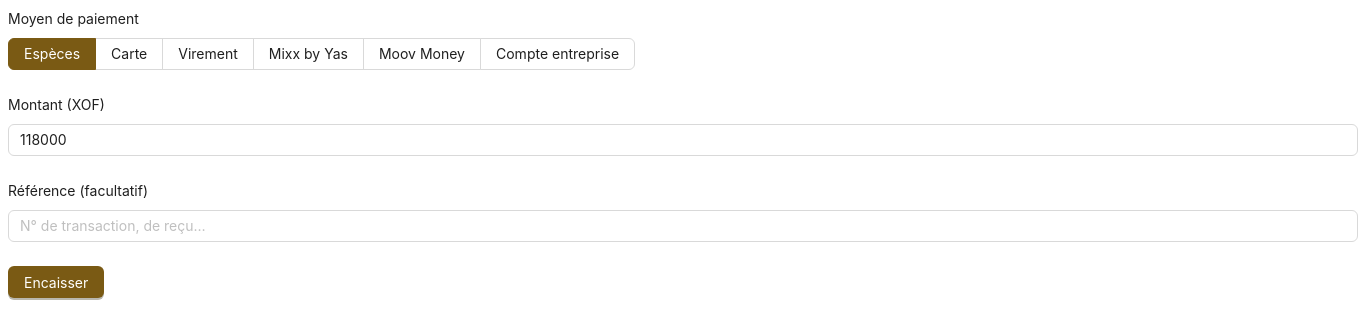
Test: payment form › shows the reference conflict on the reference field and sends an Idempotency-Key
Click the button "Mixx by Yas". click: (308, 54)
box: [269,45,348,62]
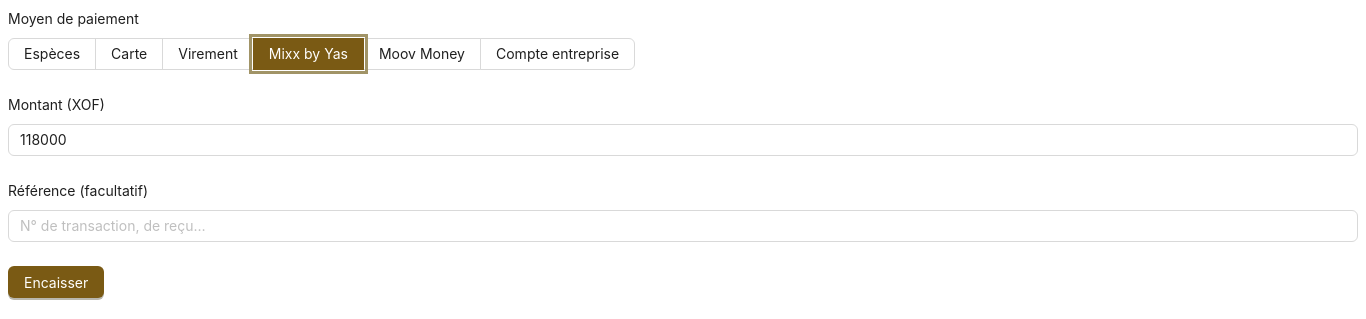
Type "TX42" into the field named "Référence (facultatif)". click: (683, 226)
box: [8,210,1358,242]
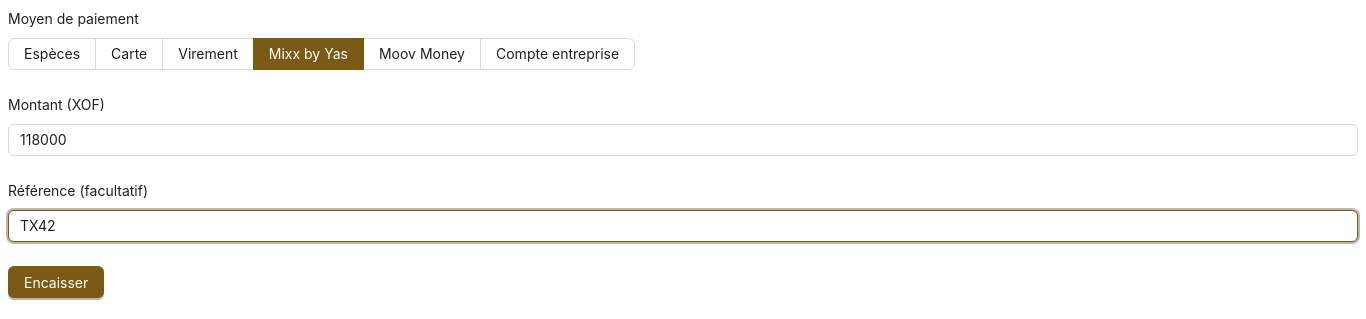
Click the button "Encaisser". click: (56, 282)
box: [8,266,104,298]
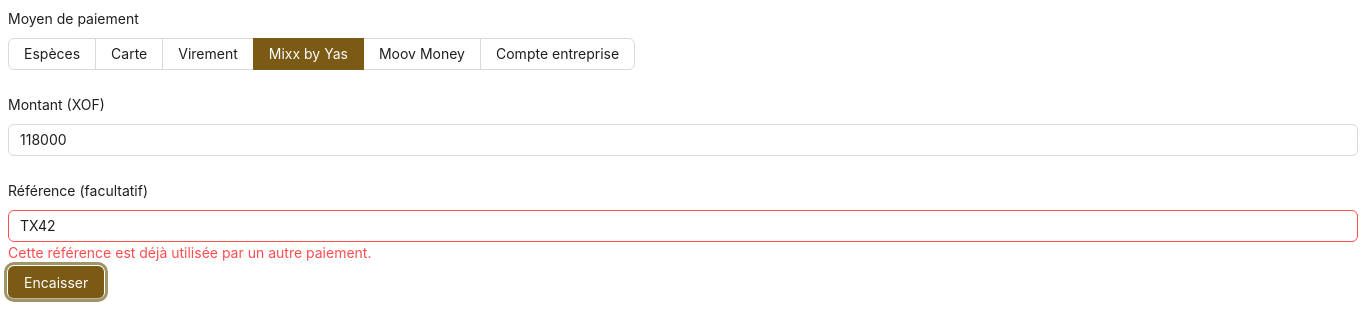
Expected: the text "Cette référence est déjà utilisée par un autre paiement." is shown, [8,244,372,261]
